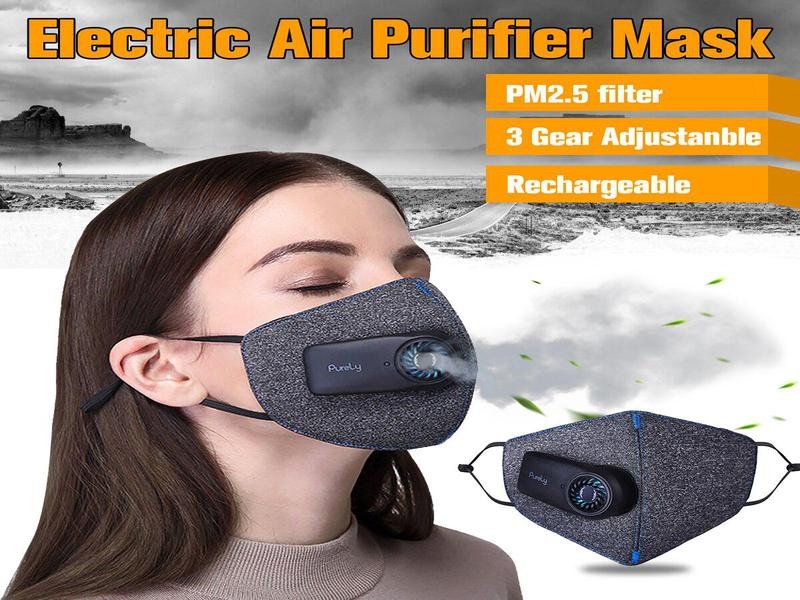with_mask: (81, 157, 483, 457)
